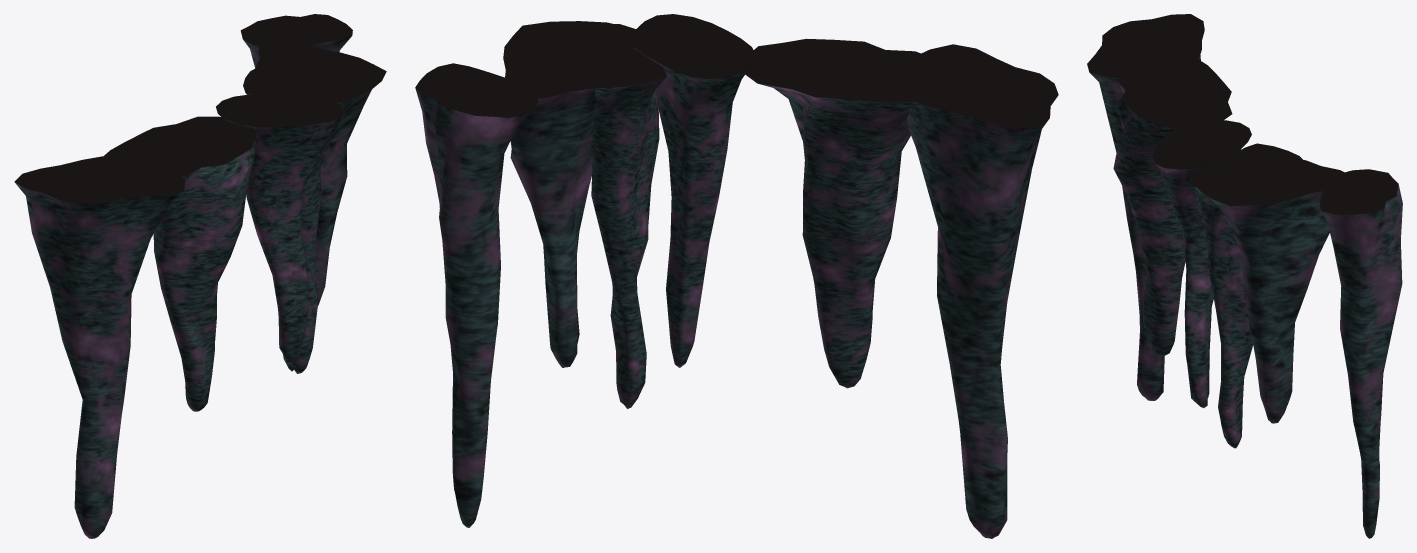
The model's file is CA_177_stalactites_corner.glb.
3 renders of one model, left to right at view 1: azimuth 30°, elevation 25°; view 2: azimuth 150°, elevation 25°; view 3: azimuth 270°, elevation 25°, orthographic. The views are drawn at different scales.
Parts seen in each view (by area): view 1: stalactite_1, stalactite_3, stalactite_4, stalactite_6, stalactite_2, stalactite_5; view 2: stalactite_1, stalactite_3, stalactite_5, stalactite_4, stalactite_2, stalactite_6; view 3: stalactite_5, stalactite_6, stalactite_3, stalactite_2, stalactite_4, stalactite_1.
Part boxes in pixels (<box>): stalactite_1: <box>14,156,184,538</box>; stalactite_3: <box>102,116,258,411</box>; stalactite_4: <box>216,92,345,364</box>; stalactite_6: <box>255,45,386,306</box>; stalactite_2: <box>243,66,361,373</box>; stalactite_5: <box>240,14,352,371</box>; stalactite_1: <box>907,44,1058,538</box>; stalactite_3: <box>744,38,941,388</box>; stalactite_5: <box>415,63,537,527</box>; stalactite_4: <box>630,14,755,367</box>; stalactite_2: <box>562,24,666,408</box>; stalactite_6: <box>503,21,612,367</box>; stalactite_5: <box>1319,169,1402,538</box>; stalactite_6: <box>1192,160,1344,423</box>; stalactite_3: <box>1113,57,1232,356</box>; stalactite_2: <box>1189,143,1304,448</box>; stalactite_4: <box>1152,120,1251,407</box>; stalactite_1: <box>1087,14,1204,400</box>.
Size of the model in its own units: 2.24 by 1.87 by 1.49.
2 materials, 1 textured.
